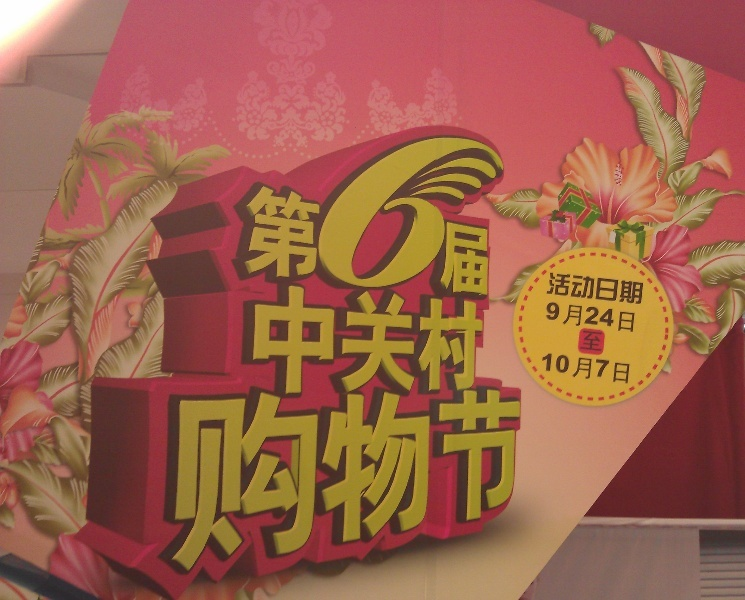text: (161, 390, 176, 574), (177, 390, 192, 574), (193, 390, 208, 574), (209, 390, 224, 574), (225, 390, 240, 574), (241, 390, 256, 574), (257, 390, 272, 574), (273, 390, 288, 574), (289, 390, 304, 574), (305, 390, 320, 574), (321, 390, 336, 574), (337, 390, 352, 574), (353, 390, 368, 574), (369, 390, 384, 574), (385, 390, 400, 574), (401, 390, 416, 574), (417, 390, 432, 574), (433, 390, 448, 574), (449, 390, 464, 574), (465, 390, 480, 574), (481, 390, 496, 574), (497, 390, 512, 574), (241, 119, 256, 298), (257, 119, 272, 298), (273, 119, 288, 298), (289, 119, 304, 298), (305, 119, 320, 298), (321, 119, 336, 298), (337, 119, 352, 298), (353, 119, 368, 298), (369, 119, 384, 298), (385, 119, 400, 298), (401, 119, 416, 298), (417, 119, 432, 298), (433, 119, 448, 298), (449, 119, 464, 298), (465, 119, 480, 298), (481, 119, 496, 298), (497, 119, 512, 298), (513, 390, 526, 574), (257, 278, 272, 392), (273, 278, 288, 392), (289, 278, 304, 392), (305, 278, 320, 392), (321, 278, 336, 392), (337, 278, 352, 392), (353, 278, 368, 392), (369, 278, 384, 392), (385, 278, 400, 392), (401, 278, 416, 392), (417, 278, 432, 392), (433, 278, 448, 392), (449, 278, 464, 392), (465, 278, 480, 392), (242, 278, 256, 392), (561, 271, 576, 306), (577, 271, 592, 306), (593, 271, 608, 306), (609, 271, 624, 306), (625, 271, 640, 306), (561, 301, 576, 333), (577, 301, 592, 333), (593, 301, 608, 333), (609, 301, 624, 333), (545, 352, 560, 384), (561, 352, 576, 384), (577, 352, 592, 384), (593, 352, 608, 384), (609, 352, 624, 384), (546, 301, 560, 333), (625, 301, 638, 333), (549, 271, 560, 306), (513, 119, 515, 298), (593, 329, 606, 353), (481, 278, 483, 392), (625, 352, 632, 384), (583, 329, 592, 353), (641, 271, 645, 306), (543, 352, 544, 384)
